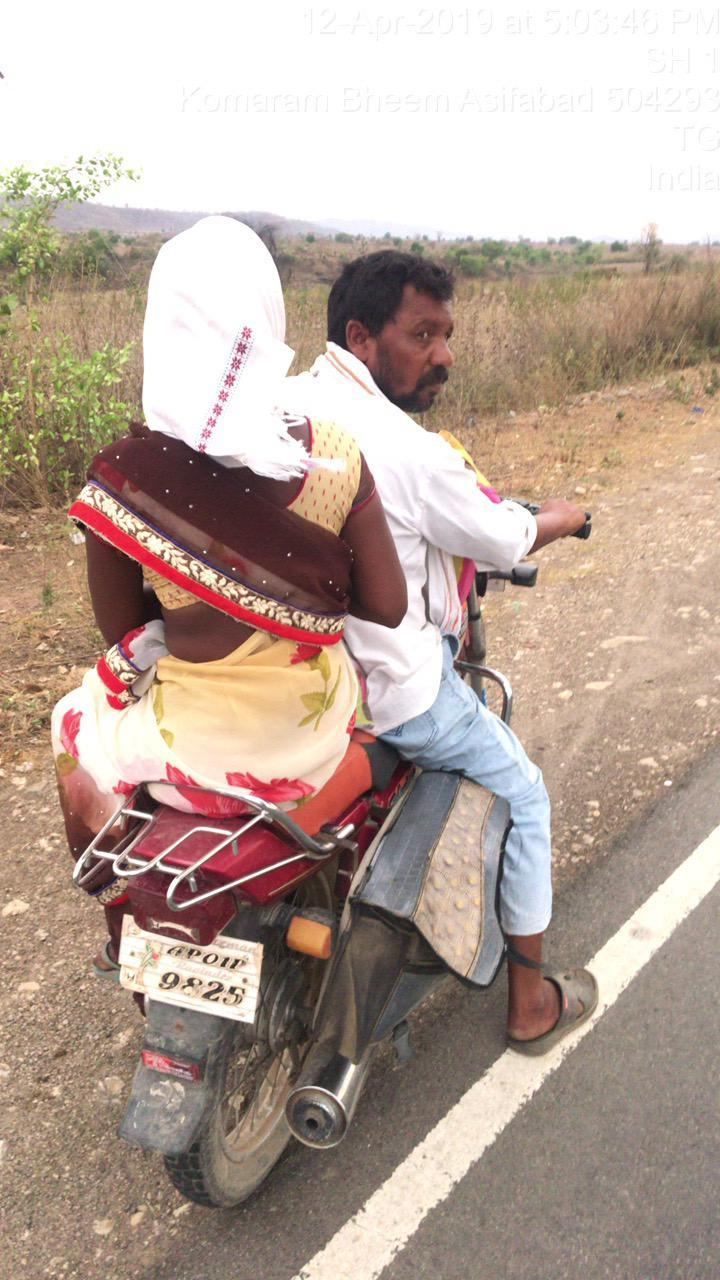plate: (86, 884, 293, 1033)
